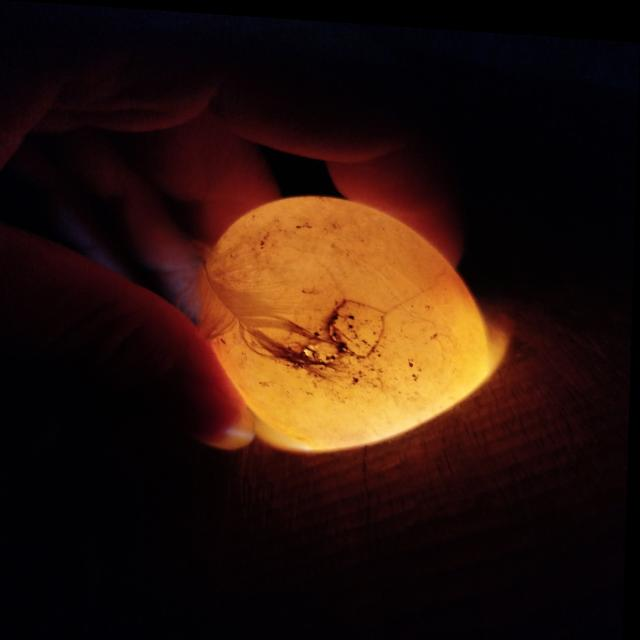Rachadura: (331, 296, 387, 352)
